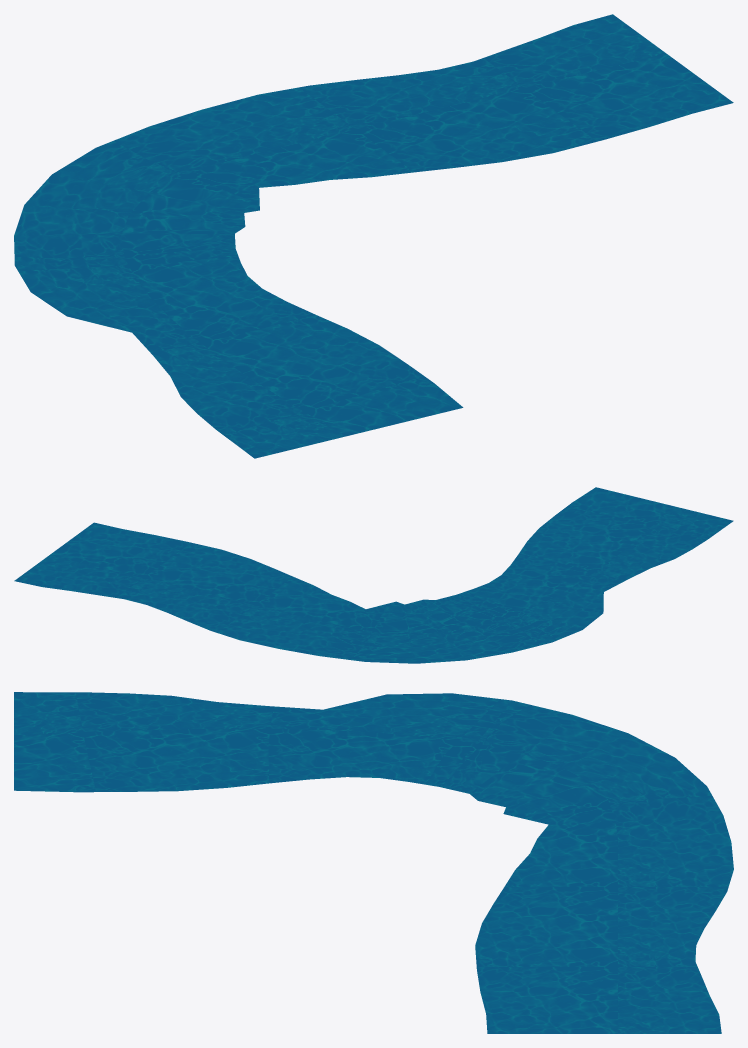
File: River3.glb
3 renders of one model, top to bottom at view 1: azimuth 30°, elevation 25°; view 2: azimuth 150°, elevation 25°; view 3: azimuth 270°, elevation 25°, orthographic. The views are drawn at different scales.
Parts seen in each view (by area): view 1: River3; view 2: River3; view 3: River3.
Boxes of the visible parts, x1,y1,x2,y2 form: River3: (14, 14, 733, 458); River3: (14, 487, 733, 663); River3: (14, 692, 733, 1033).
Size of the model in its own units: 4.22 by 1.83e-07 by 3.75.
1 material, 1 textured.
